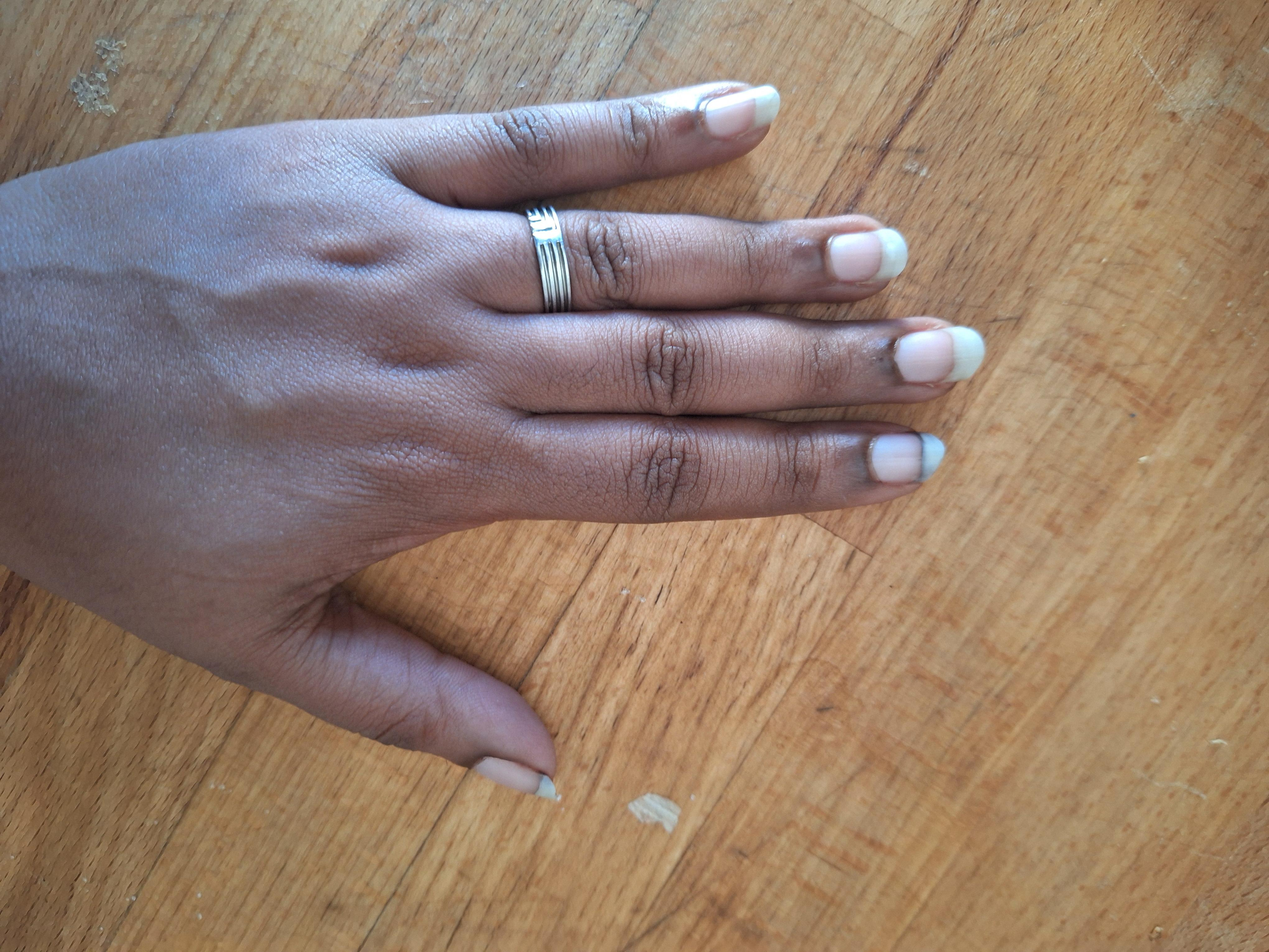Fingernail: (895, 326, 986, 383), (829, 229, 909, 284), (706, 85, 781, 140), (871, 432, 946, 485), (473, 757, 555, 801)
